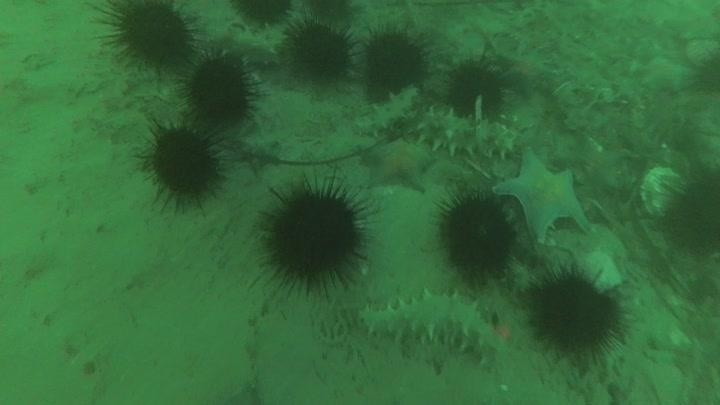echinus: (257, 177, 373, 294), (527, 266, 627, 361), (434, 189, 519, 281), (138, 121, 226, 209), (93, 2, 201, 71), (180, 51, 259, 127), (660, 162, 719, 257), (358, 26, 431, 99), (282, 17, 358, 84), (442, 55, 511, 122), (229, 1, 297, 30), (299, 1, 358, 27), (691, 48, 720, 97)
holothurian: (357, 288, 502, 368), (411, 106, 519, 162), (352, 83, 423, 140), (204, 26, 286, 69)
scallop: (637, 164, 687, 220), (577, 248, 627, 294)
starfish: (492, 148, 592, 244), (359, 136, 438, 195), (493, 46, 557, 99), (638, 51, 695, 95)
